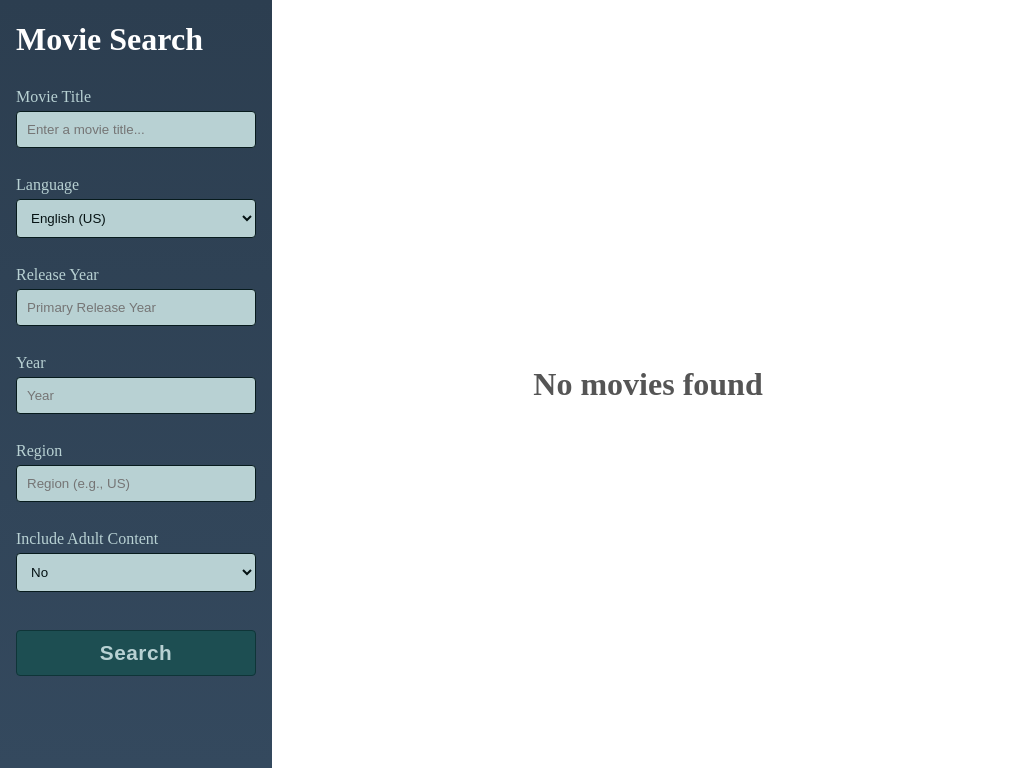
Scenario: MovieSearchPage › should display movies when search is successful
The width and height of the screenshot is (1024, 768).
Type "Inception" into the field with placeholder "Enter a movie title...". click: coordinates (136, 129)
box: [16,111,256,148]
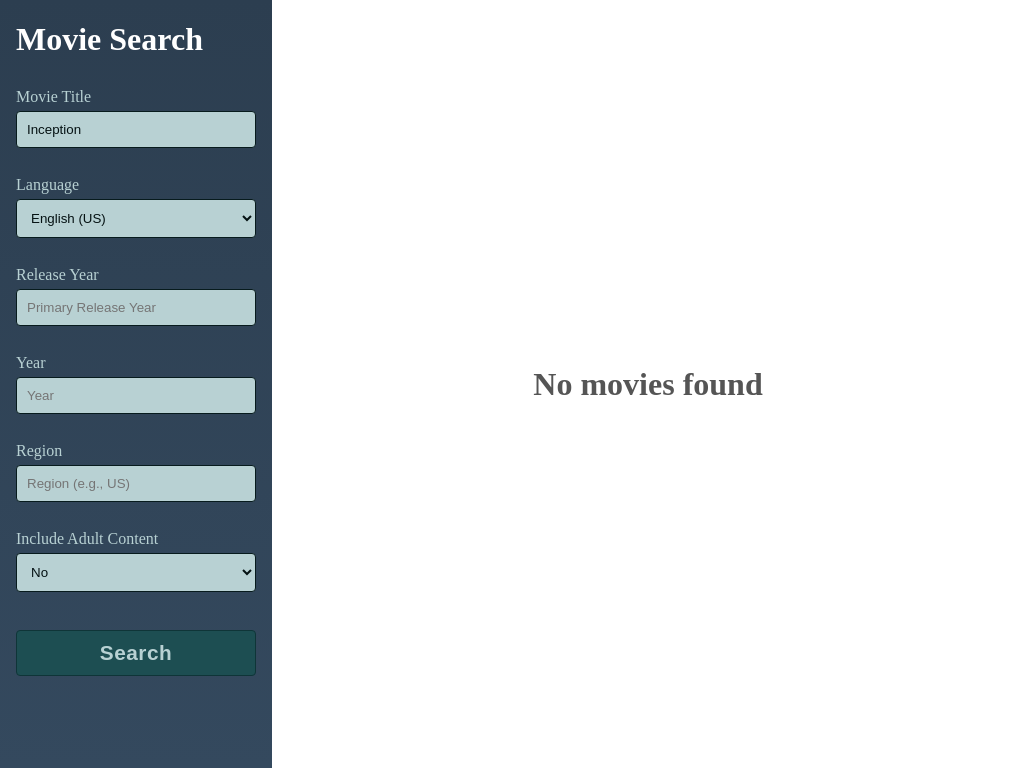
Click the button "Search". click: coordinates (136, 653)
box: [16,630,256,676]
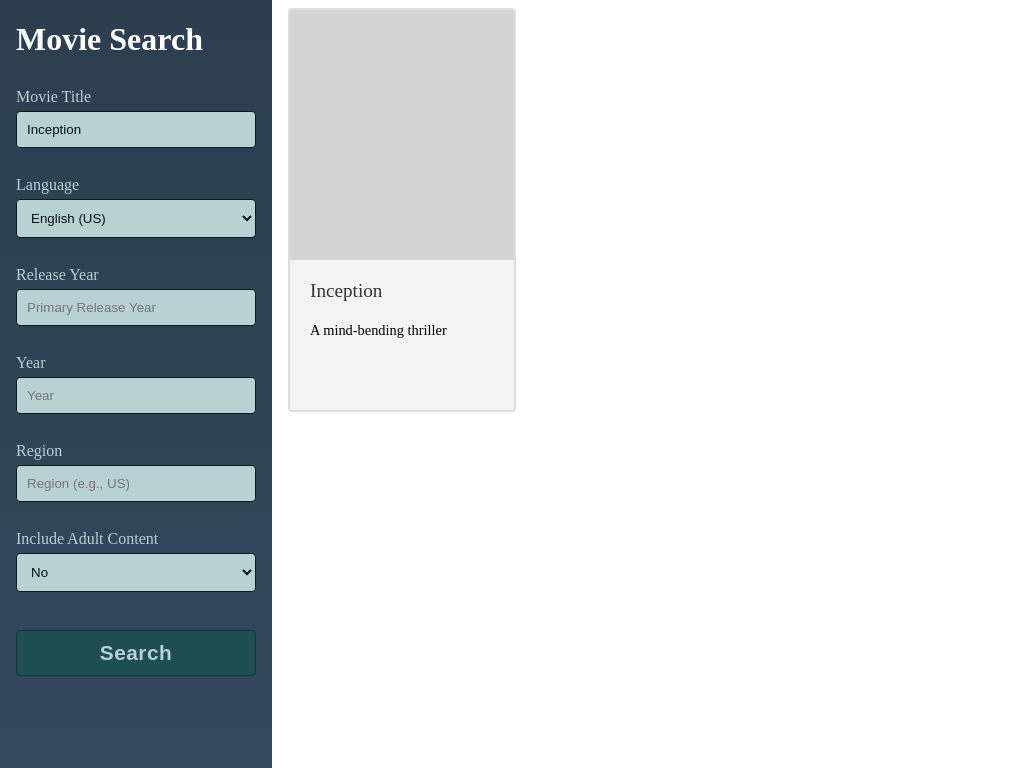
Expected: the text "Inception" is shown, [310,280,382,301]
